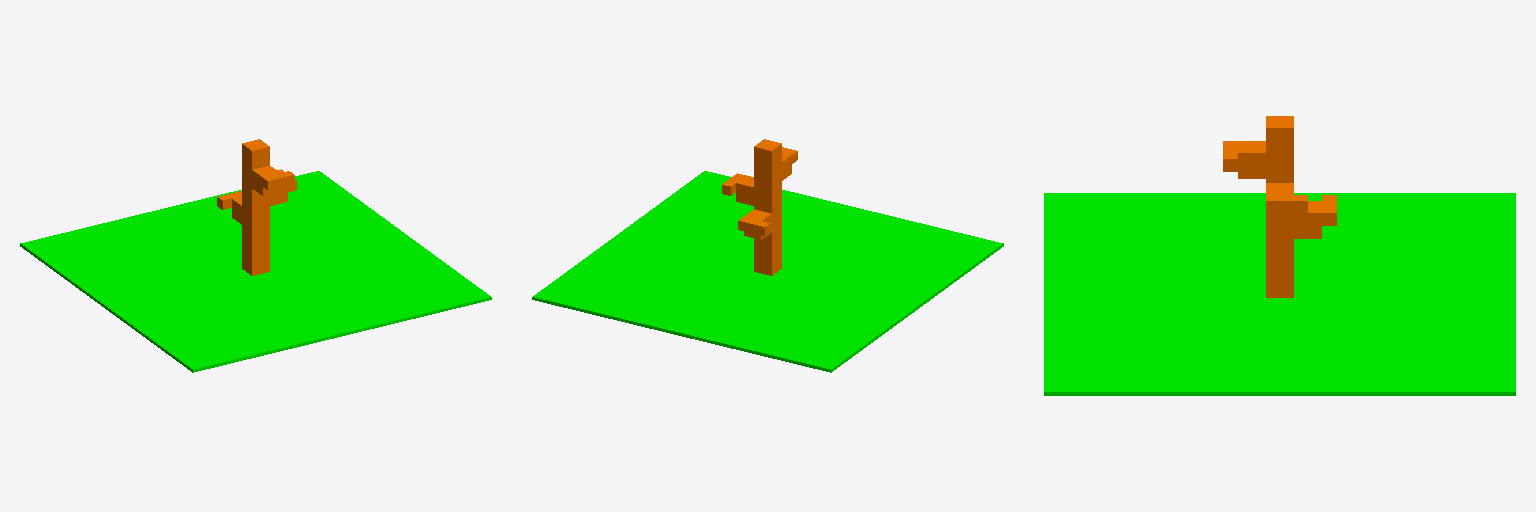
The robot description file, URDF, robot "scene_mingruiyu_0":
<?xml version="1.0" ?>
<!-- =================================================================================== -->
<!-- |    This document was autogenerated by xacro from scene_mingruiyu_1.xacro        | -->
<!-- |    EDITING THIS FILE BY HAND IS NOT RECOMMENDED                                 | -->
<!-- =================================================================================== -->
<robot name="scene_mingruiyu_0">
  <material name="dark_gray">
    <color rgba="0.2 0.2 0.2 1.0"/>
  </material>
  <material name="gray">
    <color rgba="0.3 0.3 0.3 1.0"/>
  </material>
  <material name="light_gray">
    <color rgba="0.4 0.4 0.4 1.0"/>
  </material>
  <material name="yellow">
    <color rgba="0.8 0.8 0.0 1.0"/>
  </material>
  <material name="orange">
    <color rgba="1.0 0.5 0.0 1.0"/>
  </material>
  <material name="green">
    <color rgba="0.0 1.0 0.0 1.0"/>
  </material>
  <material name="teal">
    <color rgba="0.0 1.0 1.0 1.0"/>
  </material>
  <material name="black">
    <color rgba="0.15 0.15 0.15 1.0"/>
  </material>
  <!-- GROUND PLANE -->
  <link name="ground_plane">
    <visual>
      <geometry>
        <box size="1 1 0.01"/>
      </geometry>
      <origin rpy="0 0 0" xyz="0 0 -0.005"/>
      <material name="green"/>
    </visual>
    <collision>
      <geometry>
        <box size="1 1 0.01"/>
      </geometry>
      <origin rpy="0 0 0" xyz="0 0 -0.005"/>
    </collision>
  </link>
  <link name="pole_1_root_link">
    <visual>
      <geometry>
        <box size="0.06 0.06 0.4"/>
      </geometry>
      <origin rpy="0 0 0" xyz="0 0 0.2"/>
      <material name="orange"/>
    </visual>
    <collision>
      <geometry>
        <box size="0.06 0.06 0.4"/>
      </geometry>
      <origin rpy="0 0 0" xyz="0 0 0.2"/>
    </collision>
  </link>
  <joint name="pole_1_fixture_joint" type="fixed">
    <parent link="ground_plane"/>
    <child link="pole_1_root_link"/>
    <origin rpy="0 0 0" xyz="0.0 0.0 0.0"/>
  </joint>
  <link name="pole_1_attachment_1_root_link">
    <visual>
      <geometry>
        <box size="0.06 0.06 0.06"/>
      </geometry>
      <origin rpy="0 0 0" xyz="0 0 0.03"/>
      <material name="orange"/>
    </visual>
    <collision>
      <geometry>
        <box size="0.06 0.06 0.06"/>
      </geometry>
      <origin rpy="0 0 0" xyz="0 0 0.03"/>
    </collision>
  </link>
  <joint name="pole_1_attachment_1_fixture_joint" type="fixed">
    <parent link="pole_1_root_link"/>
    <child link="pole_1_attachment_1_root_link"/>
    <origin rpy="1.5707963267948966 0 0" xyz="0.0 -0.03 0.31"/>
  </joint>
  <link name="pole_1_attachment_1_1_root_link">
    <visual>
      <geometry>
        <box size="0.03 0.03 0.09"/>
      </geometry>
      <origin rpy="0 0 0" xyz="0 0 0.045"/>
      <material name="orange"/>
    </visual>
    <collision>
      <geometry>
        <box size="0.03 0.03 0.09"/>
      </geometry>
      <origin rpy="0 0 0" xyz="0 0 0.045"/>
    </collision>
  </link>
  <joint name="pole_1_attachment_1_1_fixture_joint" type="fixed">
    <parent link="pole_1_attachment_1_root_link"/>
    <child link="pole_1_attachment_1_1_root_link"/>
    <origin rpy="0 1.5707963267948966 0" xyz="-0.03 0.015 0.075"/>
  </joint>
  <link name="pole_1_attachment_2_root_link">
    <visual>
      <geometry>
        <box size="0.06 0.06 0.06"/>
      </geometry>
      <origin rpy="0 0 0" xyz="0 0 0.03"/>
      <material name="orange"/>
    </visual>
    <collision>
      <geometry>
        <box size="0.06 0.06 0.06"/>
      </geometry>
      <origin rpy="0 0 0" xyz="0 0 0.03"/>
    </collision>
  </link>
  <joint name="pole_1_attachment_2_fixture_joint" type="fixed">
    <parent link="pole_1_root_link"/>
    <child link="pole_1_attachment_2_root_link"/>
    <origin rpy="1.5707963267948966 0 1.5707963267948966" xyz="0.03 0.0 0.24"/>
  </joint>
  <link name="pole_1_attachment_2_1_root_link">
    <visual>
      <geometry>
        <box size="0.03 0.03 0.09"/>
      </geometry>
      <origin rpy="0 0 0" xyz="0 0 0.045"/>
      <material name="orange"/>
    </visual>
    <collision>
      <geometry>
        <box size="0.03 0.03 0.09"/>
      </geometry>
      <origin rpy="0 0 0" xyz="0 0 0.045"/>
    </collision>
  </link>
  <joint name="pole_1_attachment_2_1_fixture_joint" type="fixed">
    <parent link="pole_1_attachment_2_root_link"/>
    <child link="pole_1_attachment_2_1_root_link"/>
    <origin rpy="0 1.5707963267948966 0" xyz="-0.03 0.015 0.075"/>
  </joint>
  <link name="pole_1_attachment_3_root_link">
    <visual>
      <geometry>
        <box size="0.06 0.06 0.06"/>
      </geometry>
      <origin rpy="0 0 0" xyz="0 0 0.03"/>
      <material name="orange"/>
    </visual>
    <collision>
      <geometry>
        <box size="0.06 0.06 0.06"/>
      </geometry>
      <origin rpy="0 0 0" xyz="0 0 0.03"/>
    </collision>
  </link>
  <joint name="pole_1_attachment_3_fixture_joint" type="fixed">
    <parent link="pole_1_root_link"/>
    <child link="pole_1_attachment_3_root_link"/>
    <origin rpy="1.5707963267948966 0 3.141592653589793" xyz="0.0 0.03 0.17"/>
  </joint>
  <link name="pole_1_attachment_3_1_root_link">
    <visual>
      <geometry>
        <box size="0.03 0.03 0.09"/>
      </geometry>
      <origin rpy="0 0 0" xyz="0 0 0.045"/>
      <material name="orange"/>
    </visual>
    <collision>
      <geometry>
        <box size="0.03 0.03 0.09"/>
      </geometry>
      <origin rpy="0 0 0" xyz="0 0 0.045"/>
    </collision>
  </link>
  <joint name="pole_1_attachment_3_1_fixture_joint" type="fixed">
    <parent link="pole_1_attachment_3_root_link"/>
    <child link="pole_1_attachment_3_1_root_link"/>
    <origin rpy="0 1.5707963267948966 0" xyz="-0.03 0.015 0.075"/>
  </joint>
</robot>

--- What the picture shows (computed from the rendered views, not written in the file) ---
The picture shows the robot from 3 angles, left to right: view 1: azimuth 30°, elevation 25°; view 2: azimuth 150°, elevation 25°; view 3: azimuth 270°, elevation 25°; orthographic projection.
Model scene_mingruiyu_0 with 8 links and 7 joints (7 fixed), rooted at ground_plane, posed all joints at 0.
Links seen in each view (by area): view 1: ground_plane, pole_1_root_link; view 2: ground_plane, pole_1_root_link; view 3: ground_plane, pole_1_root_link, pole_1_attachment_1_root_link, pole_1_attachment_3_root_link, pole_1_attachment_2_1_root_link, pole_1_attachment_2_root_link.
Link boxes in pixels (x1,y1,x2,y2): ground_plane: (20,171,491,372); pole_1_root_link: (242,139,269,275); ground_plane: (532,171,1003,372); pole_1_root_link: (754,139,781,275); ground_plane: (1044,193,1515,395); pole_1_root_link: (1266,116,1293,297); pole_1_attachment_1_root_link: (1238,141,1265,178); pole_1_attachment_3_root_link: (1294,201,1321,238); pole_1_attachment_2_1_root_link: (1266,195,1307,213); pole_1_attachment_2_root_link: (1266,183,1293,220).
Size in the robot's own frame: 1 by 1 by 0.41 metres.
Geometry: primitives only (box / cylinder / sphere), no mesh files.
